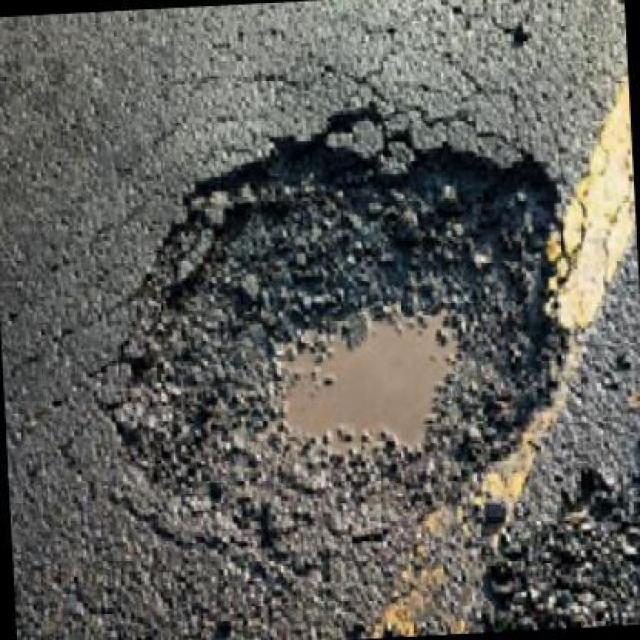pothole: (115, 137, 571, 517)
